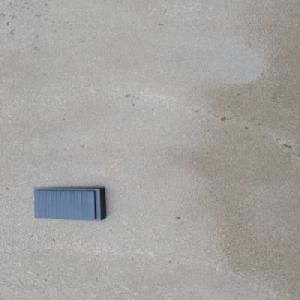PlasticPart: (32, 186, 106, 221)
